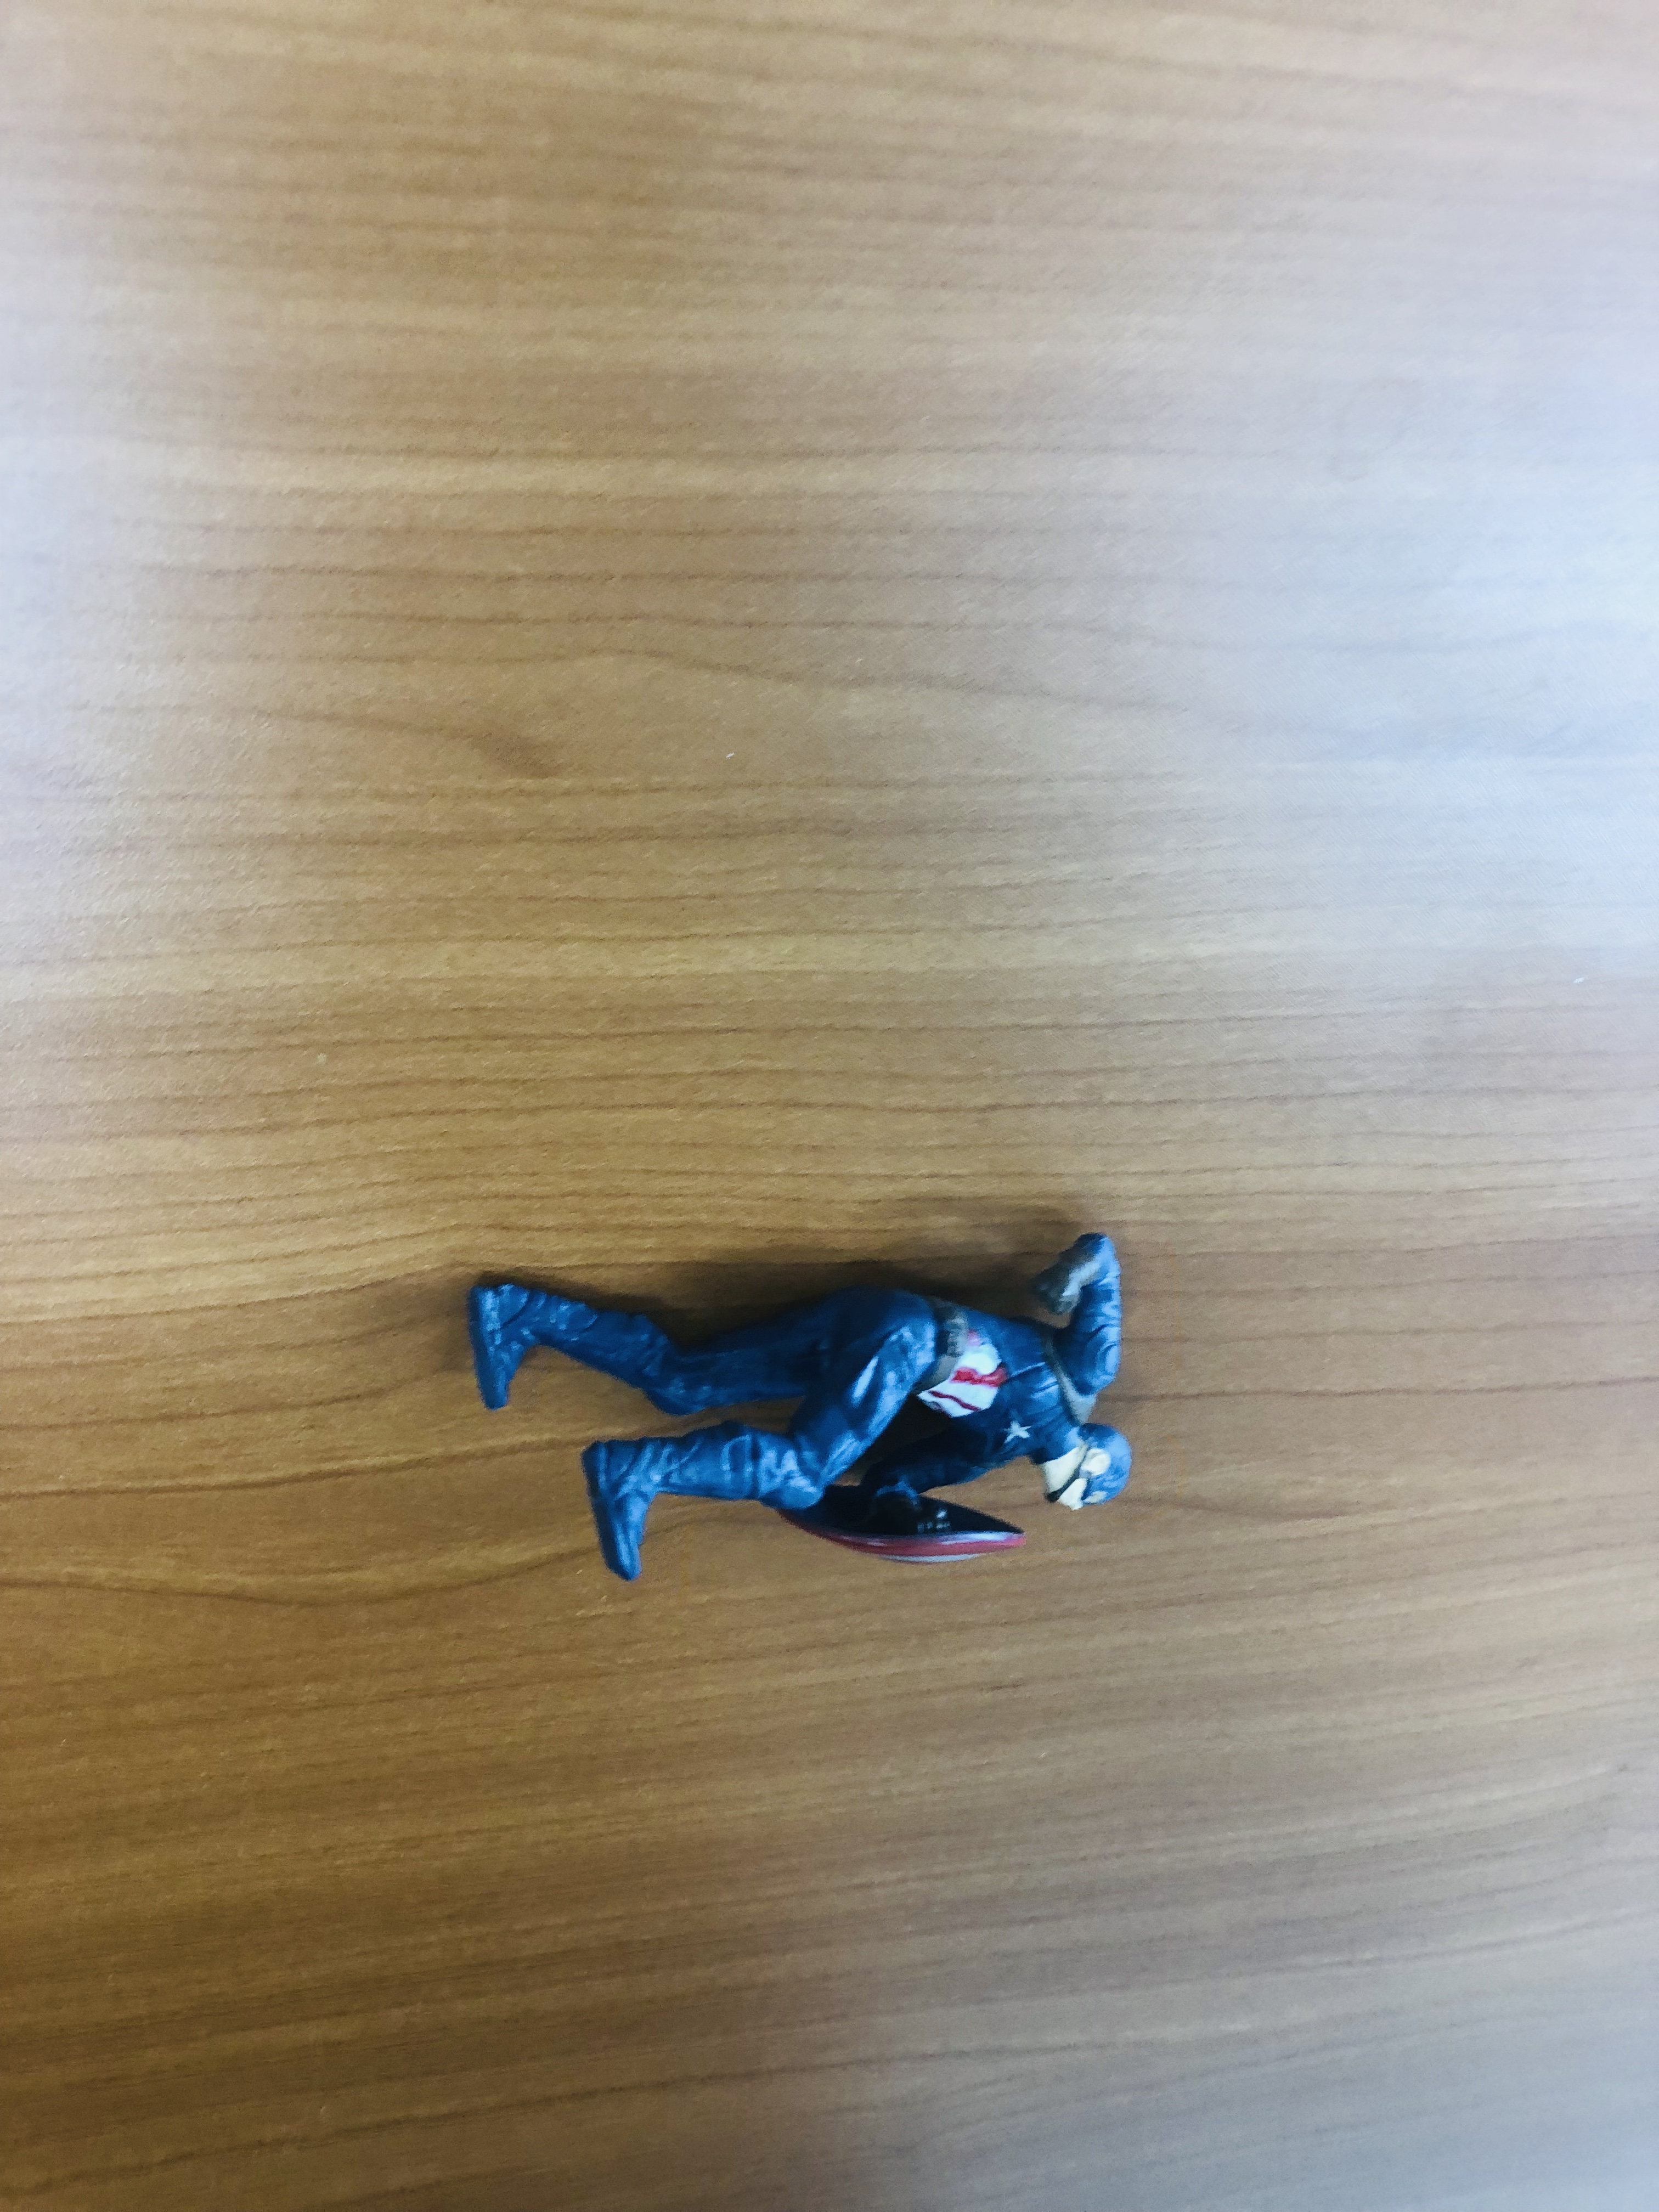people: (386, 1159, 1190, 1598)
